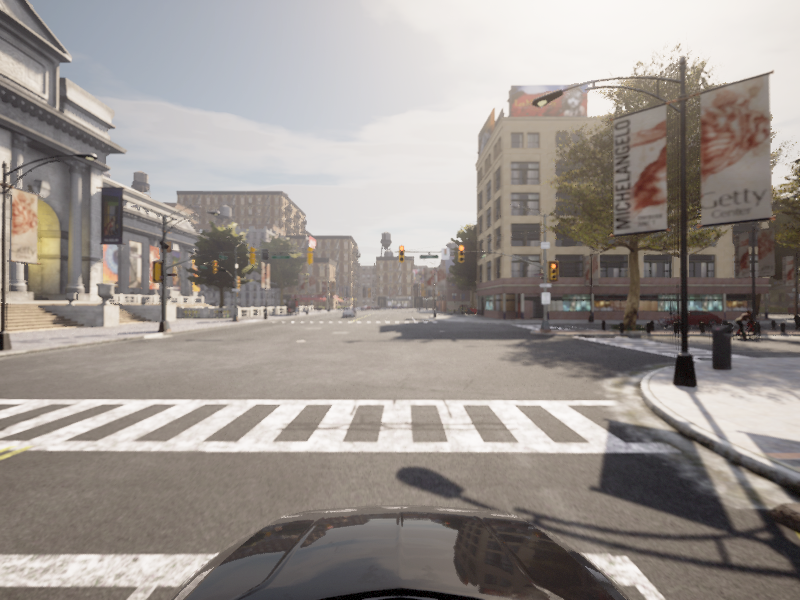vehicle: (653, 309, 725, 328), (726, 310, 765, 340)
